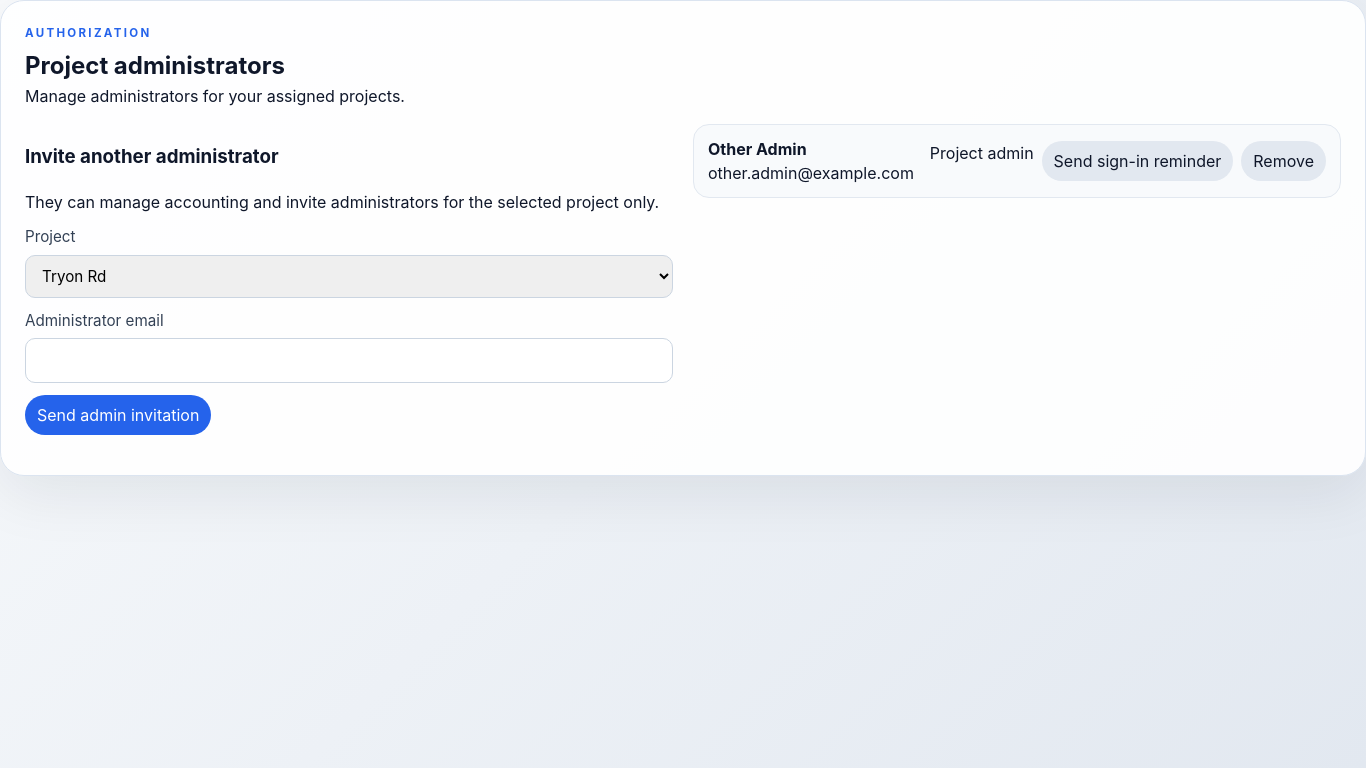
Test: AccessAdmin › removes another project administrator after confirmation
What coordinates should you click on to do the following:
click the button "Remove"
I would click on:
 (1284, 161)
Its box is x1=1241 y1=141 x2=1326 y2=181.
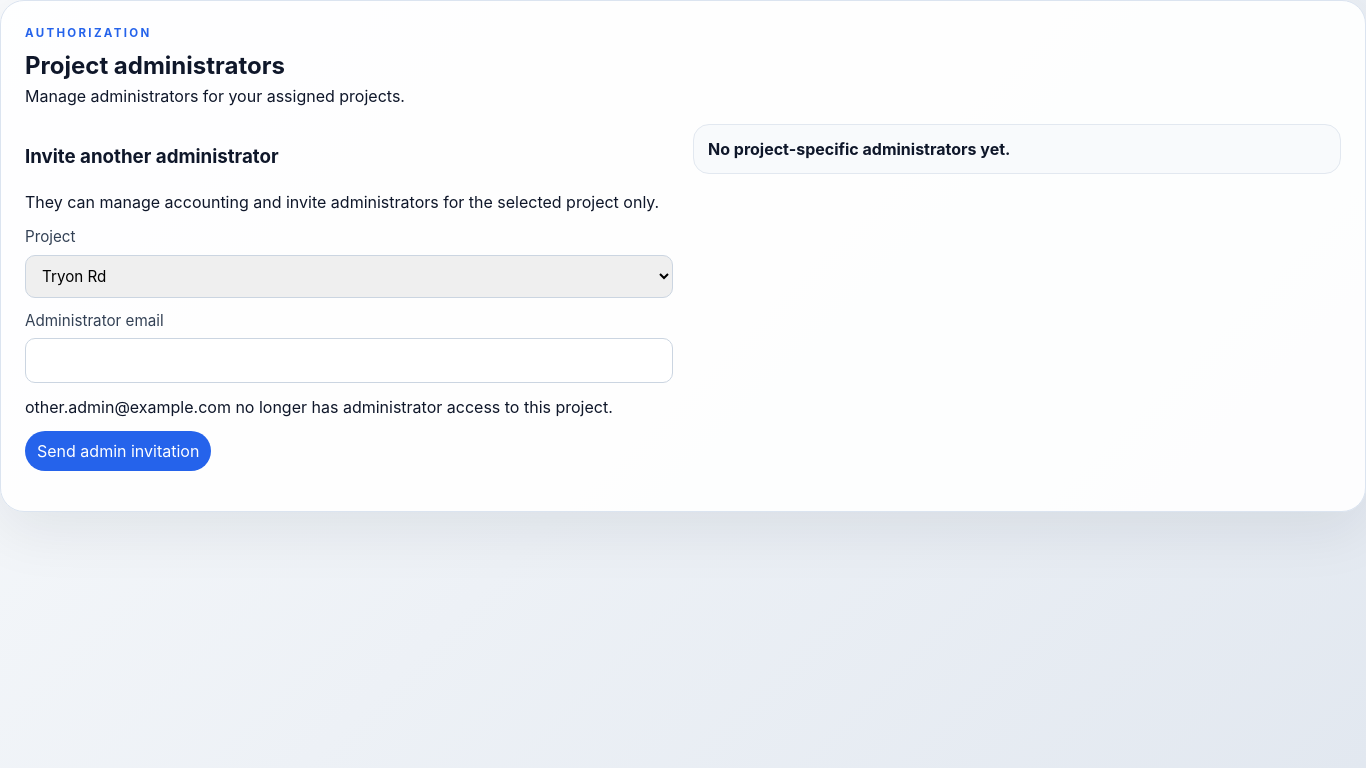
Result: the message shows "no longer has administrator access" at x1=25 y1=397 x2=613 y2=417
